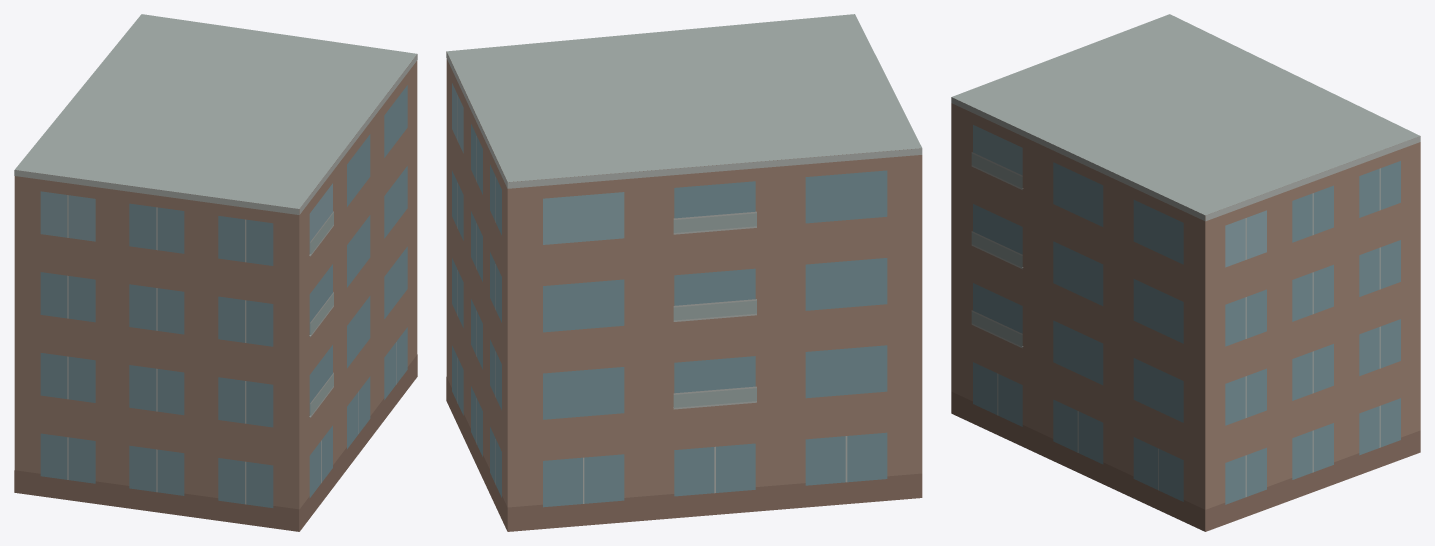
The model's file is survey-upis-32833092.glb.
3 renders of one model, left to right at view 1: azimuth 30°, elevation 25°; view 2: azimuth 150°, elevation 25°; view 3: azimuth 270°, elevation 25°, orthographic. The views are drawn at different scales.
Parts seen in each view (by area): view 1: survey-upis-32833092.tmp; view 2: survey-upis-32833092.tmp; view 3: survey-upis-32833092.tmp.
Part boxes in pixels (box(x1,y1,x2,y2)): survey-upis-32833092.tmp: box(14, 14, 417, 531); survey-upis-32833092.tmp: box(446, 14, 922, 531); survey-upis-32833092.tmp: box(951, 14, 1420, 531).
Bounding box in the file's own units: 17.62 × 12.9 × 17.34.
